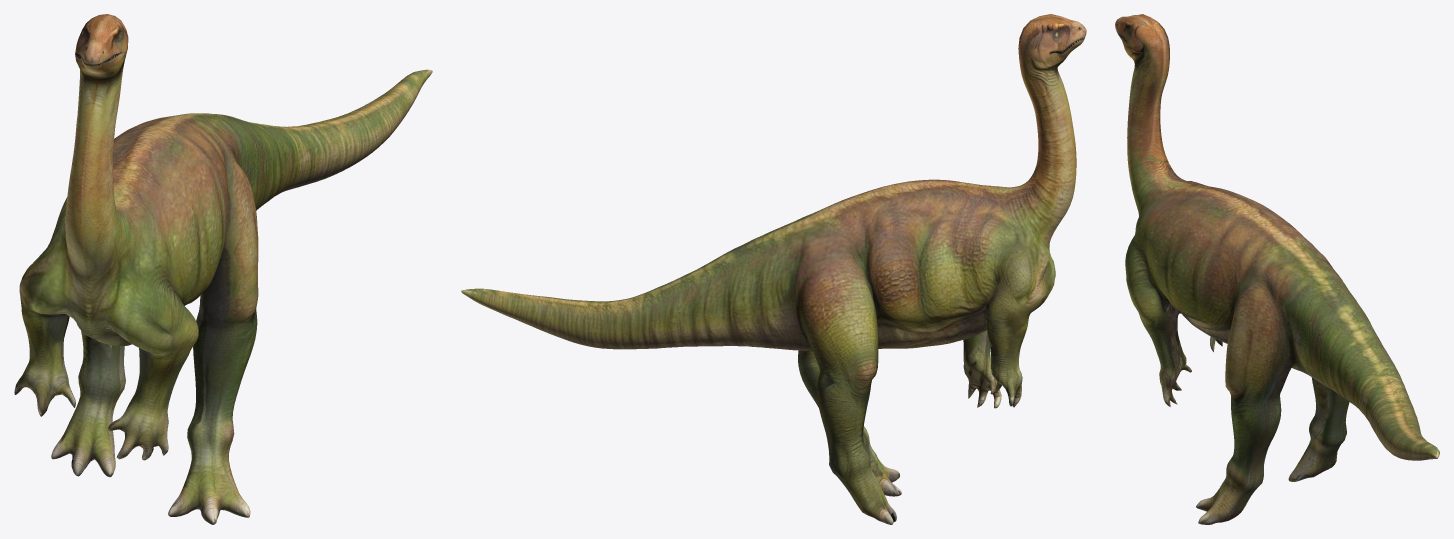
3 renders of one model, left to right at view 1: azimuth 30°, elevation 25°; view 2: azimuth 150°, elevation 25°; view 3: azimuth 270°, elevation 25°, orthographic. The views are drawn at different scales.
Visible parts, largest first — view 1: Mesh_0.001; view 2: Mesh_0.001; view 3: Mesh_0.001.
Boxes of the visible parts, x1=… form: Mesh_0.001: x1=14, y1=14, x2=432, y2=524; Mesh_0.001: x1=461, y1=14, x2=1086, y2=524; Mesh_0.001: x1=1115, y1=14, x2=1439, y2=524.
Bounding box in the file's own units: 0.0718 × 0.0704 × 0.0471.
1 material, 1 textured.
